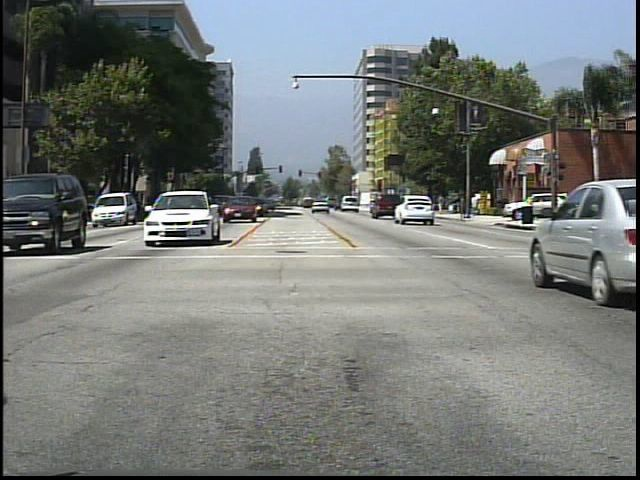person: (471, 191, 483, 219), (437, 192, 448, 217)
